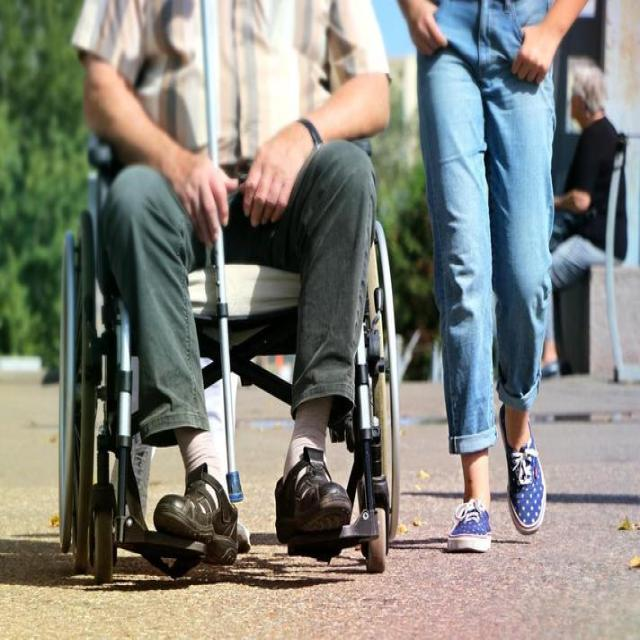wheelchairs: (33, 110, 424, 583)
